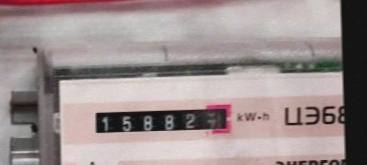1: (100, 115, 109, 132)
2: (184, 112, 194, 129)
5: (121, 115, 131, 131)
7: (206, 118, 215, 130)
8: (163, 114, 173, 131), (142, 115, 152, 131)
screen: (87, 100, 237, 143)
